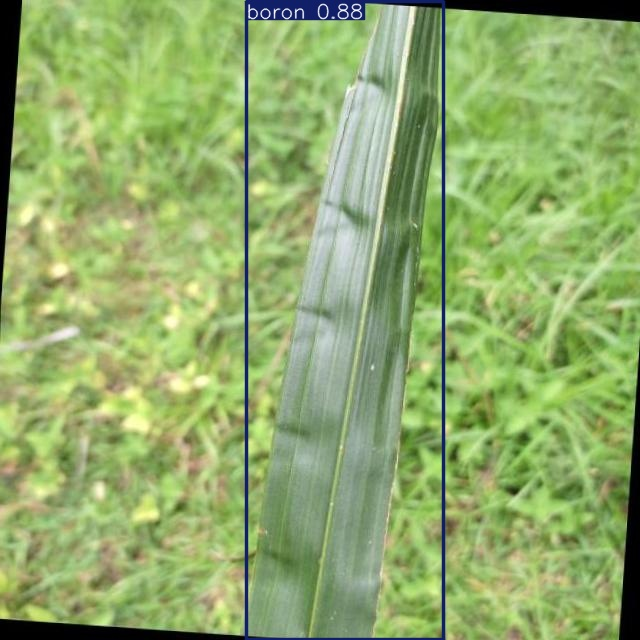nitrogen: (246, 2, 443, 640)
